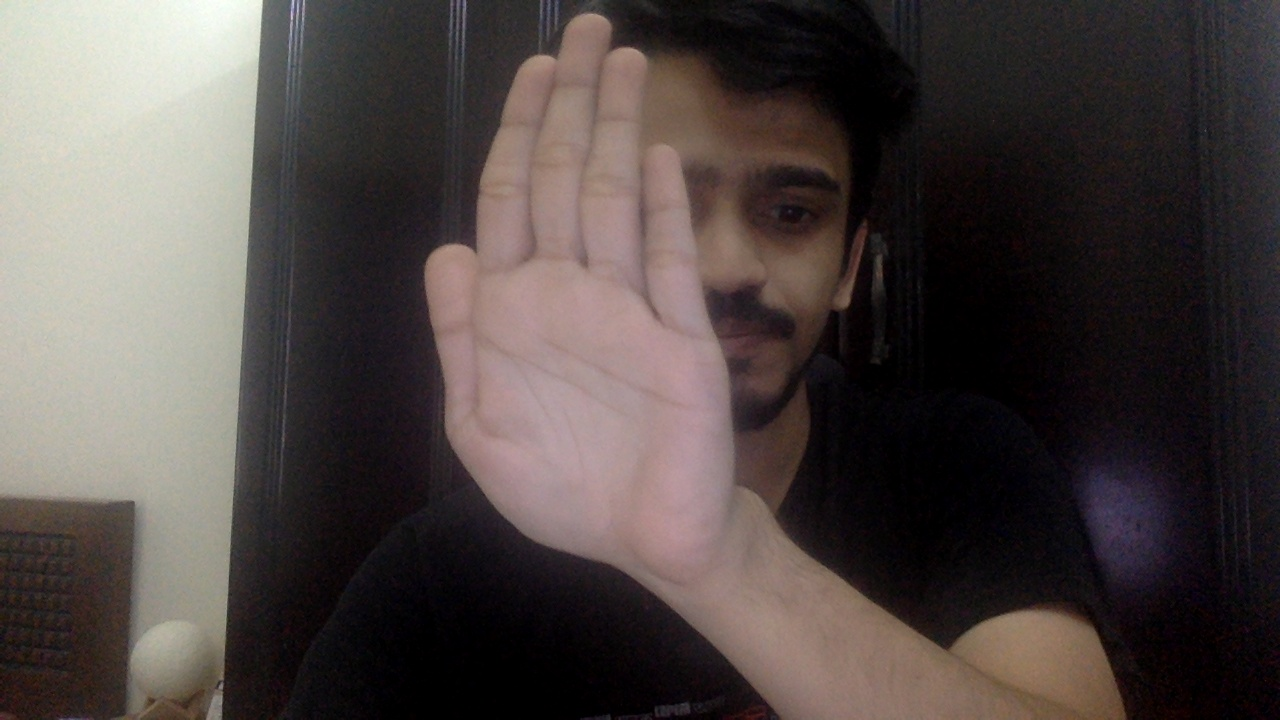stop: (423, 11, 737, 593)
